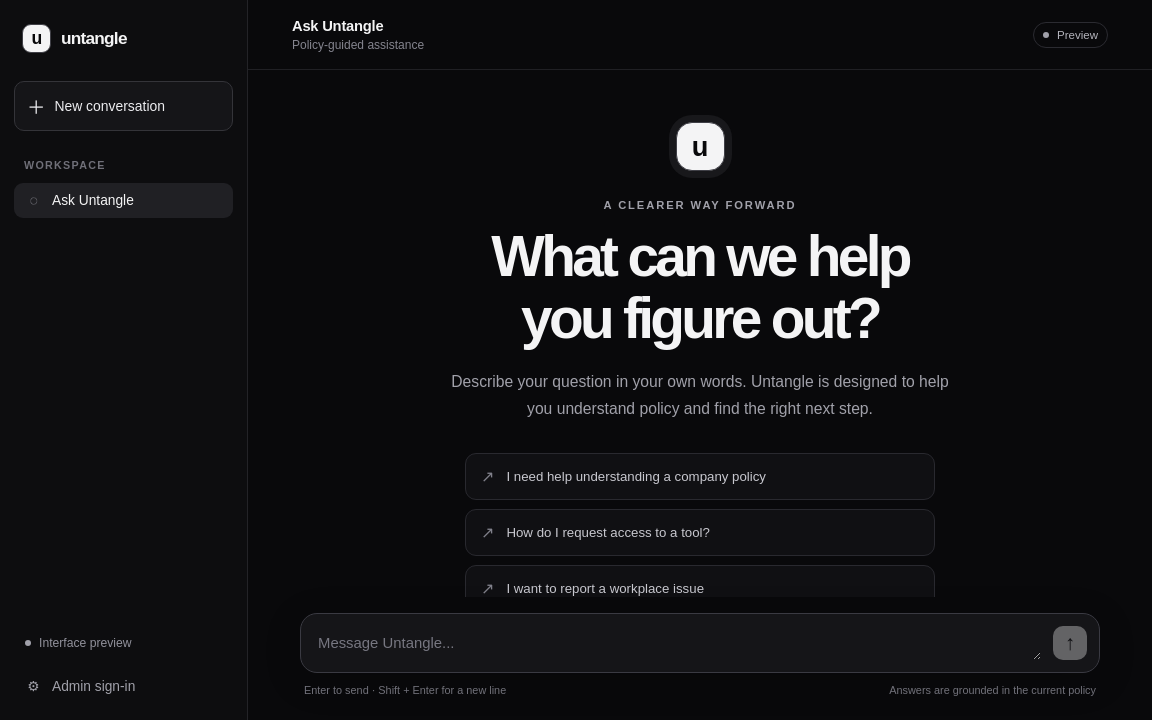
User mode › shows the loading state while the policy query is pending
The width and height of the screenshot is (1152, 720).
Step 1. Type "Question" into the text box labelled "Message Untangle" → (680, 643), box [318,627,1041,660]
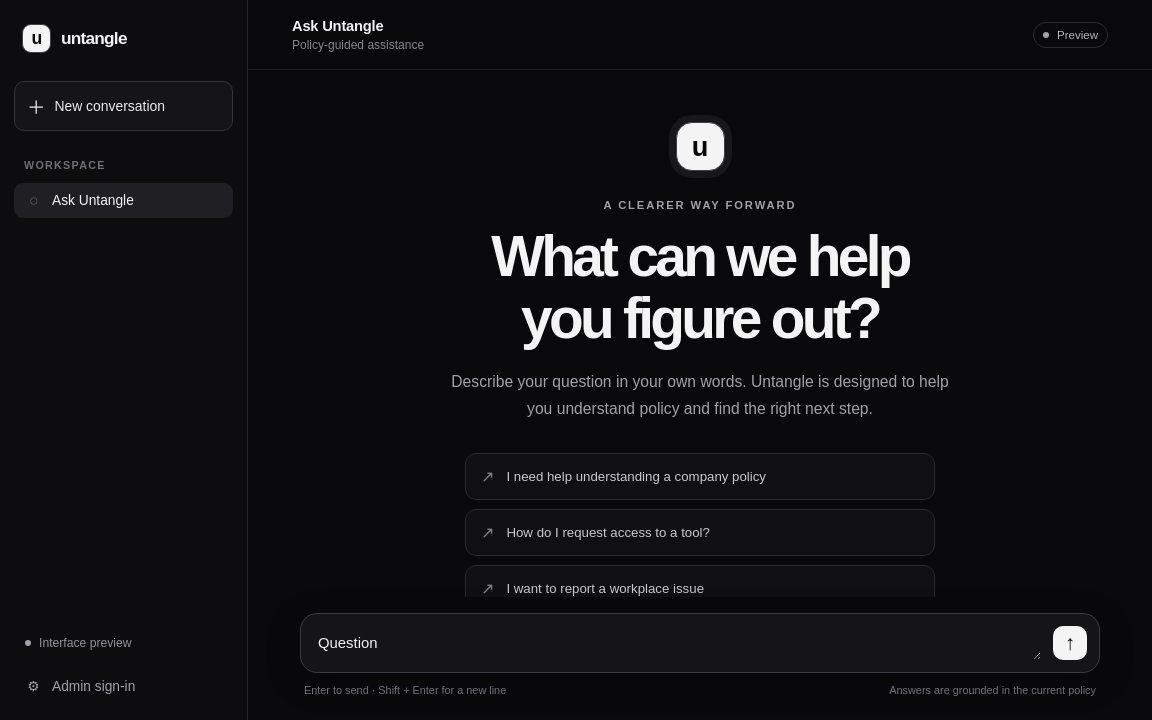
Step 2. Click the button named "Send message" → (1070, 643), box [1053,626,1087,660]
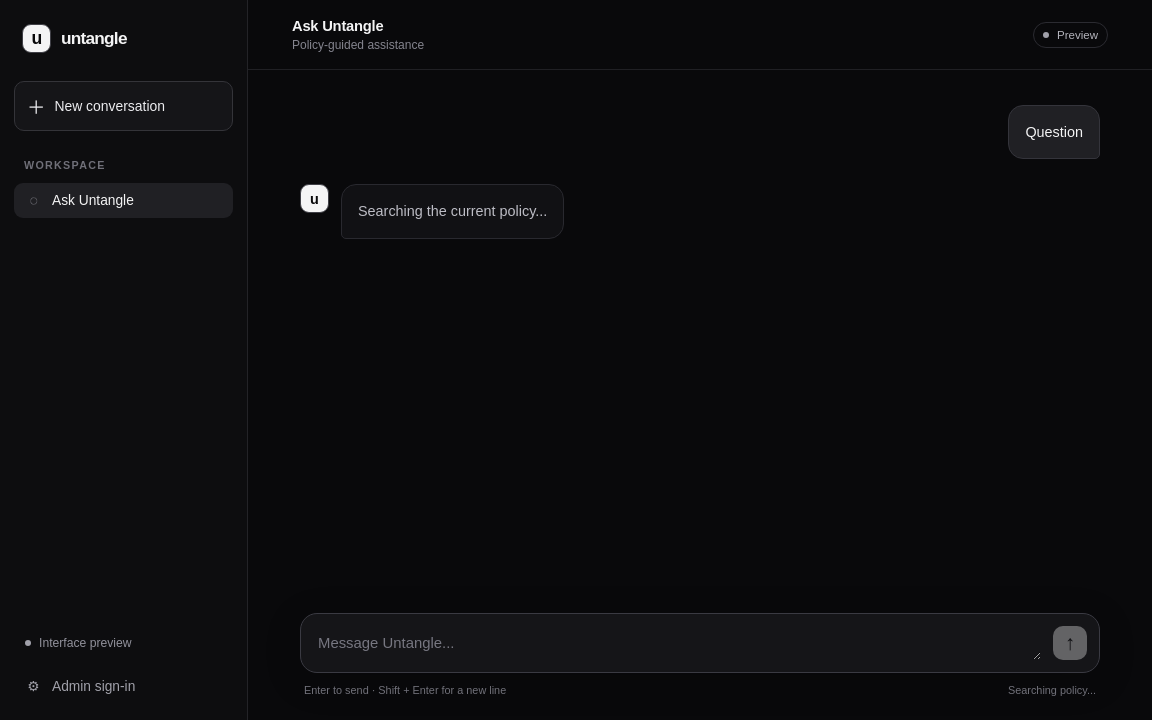
Check: the message reads "Searching policy...", box [1008,684,1096,696]
Check: the button named "Send message" is disabled, box [1053,626,1087,660]
